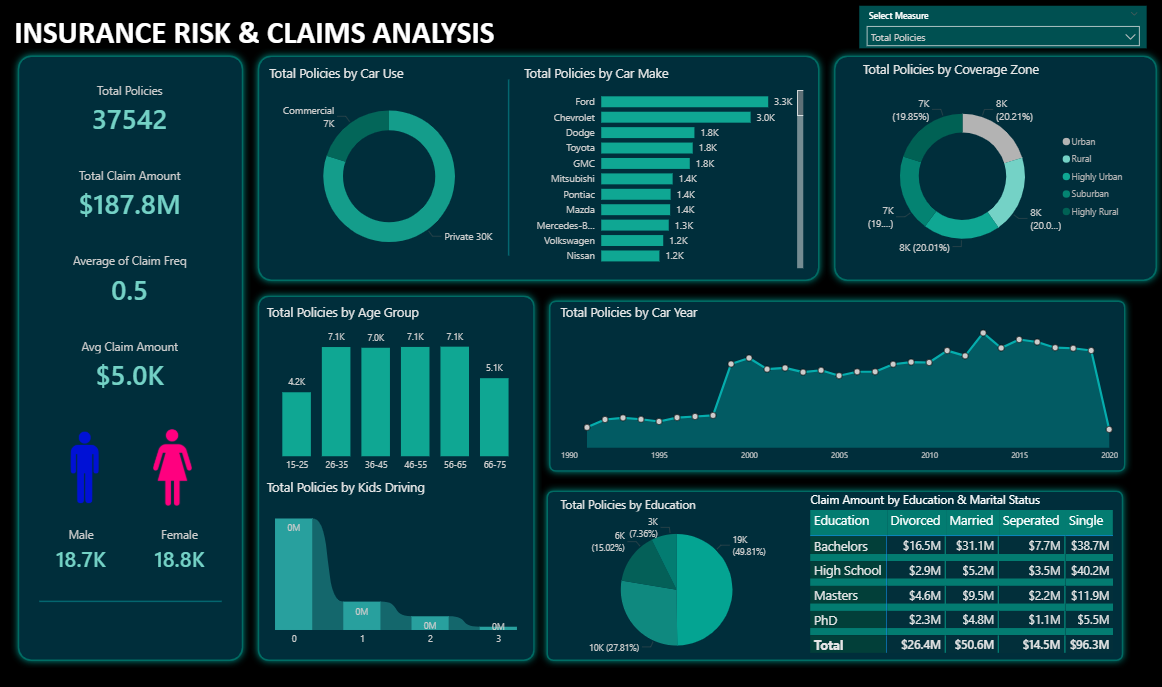

The dashboard page shown, as its layout file describes it:
{"tool":"powerbi","page":{"name":"Page 1","canvas":[1600,950],"ordinal":0},"visuals":[{"type":"textbox","box":[17.2,17.2,699.8,65.2],"z":0},{"type":"shape","box":[17.2,70.3,329.3,850.8],"z":1000},{"type":"cardVisual","fields":{"Data":["insurance_data_car.Total Policies","insurance_data_car.Total Claim Amount","Avg(insurance_data_car.Claim Freq)","insurance_data_car.Avg Claim Amount"]},"box":[46.3,99.5,269.3,459.7],"z":2000},{"type":"cardVisual","fields":{"Data":["insurance_data_car.Male Count","insurance_data_car.Female Count"]},"box":[51.5,703.3,260.7,109.8],"z":3000},{"type":"image","box":[61.7,588.3,114.9,114.9],"z":4000},{"type":"image","box":[181.8,588.3,114.9,114.9],"z":5000},{"type":"slicer","fields":{"Values":["Select Measure.Select Measure"]},"box":[1181.8,12,394.5,58.3],"z":6000},{"type":"shape","box":[346.5,70.3,790.7,329.3],"z":7000},{"type":"donutChart","fields":{"Y":["insurance_data_car.Total Policies"],"Category":["insurance_data_car.Car Use"]},"box":[367.1,92.6,339.6,284.7],"z":8000},{"type":"clusteredBarChart","fields":{"Y":["insurance_data_car.Total Policies"],"Category":["insurance_data_car.Car Make"]},"box":[717,92.6,392.8,284.7],"z":9000},{"type":"shape","box":[1137.2,70.3,463.1,329.3],"z":10000},{"type":"donutChart","fields":{"Y":["insurance_data_car.Total Policies"],"Category":["insurance_data_car.Coverage Zone"]},"box":[1181.8,87.5,375.6,295],"z":11000},{"type":"shape","box":[346.5,399.7,400,521.4],"z":12000},{"type":"clusteredColumnChart","fields":{"Y":["insurance_data_car.Total Policies"],"Category":["insurance_data_car.Age Group"]},"box":[363.6,420.2,365.4,240.1],"z":13000},{"type":"ribbonChart","fields":{"Y":["insurance_data_car.Total Policies"],"Category":["insurance_data_car.Kids Driving"]},"box":[363.6,660.4,365.4,238.4],"z":14000},{"type":"shape","box":[746.1,406.5,811,255],"z":15000},{"type":"areaChart","fields":{"Y":["insurance_data_car.Total Policies"],"Category":["insurance_data_car.Car Year"]},"box":[766.7,420.2,775.3,226.4],"z":16000},{"type":"shape","box":[742.7,667.2,811.3,253.9],"z":17000},{"type":"pieChart","fields":{"Y":["insurance_data_car.Total Policies"],"Category":["insurance_data_car.Education"]},"box":[766.7,684.4,329.3,236.7],"z":18000},{"type":"pivotTable","title":"Claim Amount by Education & Marital Status","fields":{"Rows":["insurance_data_car.Education"],"Columns":["insurance_data_car.Marital Status"],"Values":["insurance_data_car.Total Claim Amount"]},"box":[1109.8,677.5,432.2,235],"z":19000},{"type":"shape","box":[672.4,113.2,56.6,241.9],"z":20000},{"type":"shape","box":[56.6,708.4,250.4,241.9],"z":21000}]}

Visuals, with their boxes in screenshot pixels (x1, y1, x2, y2), scaled from the page's 1600x950 canvas onto the 1162x687 screenshot:
textbox: <box>12,12,521,60</box>
shape: <box>12,51,252,666</box>
cardVisual - insurance_data_car.Total Policies x insurance_data_car.Total Claim Amount: <box>34,72,229,404</box>
cardVisual - insurance_data_car.Male Count x insurance_data_car.Female Count: <box>37,509,227,588</box>
image: <box>45,425,128,509</box>
image: <box>132,425,215,509</box>
slicer - Select Measure.Select Measure: <box>858,9,1145,51</box>
shape: <box>252,51,826,289</box>
donutChart - insurance_data_car.Total Policies x insurance_data_car.Car Use: <box>267,67,513,273</box>
clusteredBarChart - insurance_data_car.Total Policies x insurance_data_car.Car Make: <box>521,67,806,273</box>
shape: <box>826,51,1161,289</box>
donutChart - insurance_data_car.Total Policies x insurance_data_car.Coverage Zone: <box>858,63,1131,277</box>
shape: <box>252,289,542,666</box>
clusteredColumnChart - insurance_data_car.Total Policies x insurance_data_car.Age Group: <box>264,304,529,478</box>
ribbonChart - insurance_data_car.Total Policies x insurance_data_car.Kids Driving: <box>264,478,529,650</box>
shape: <box>542,294,1131,478</box>
areaChart - insurance_data_car.Total Policies x insurance_data_car.Car Year: <box>557,304,1120,468</box>
shape: <box>539,482,1129,666</box>
pieChart - insurance_data_car.Total Policies x insurance_data_car.Education: <box>557,495,796,666</box>
"Claim Amount by Education & Marital Status" pivotTable: <box>806,490,1120,660</box>
shape: <box>488,82,529,257</box>
shape: <box>41,512,223,686</box>
